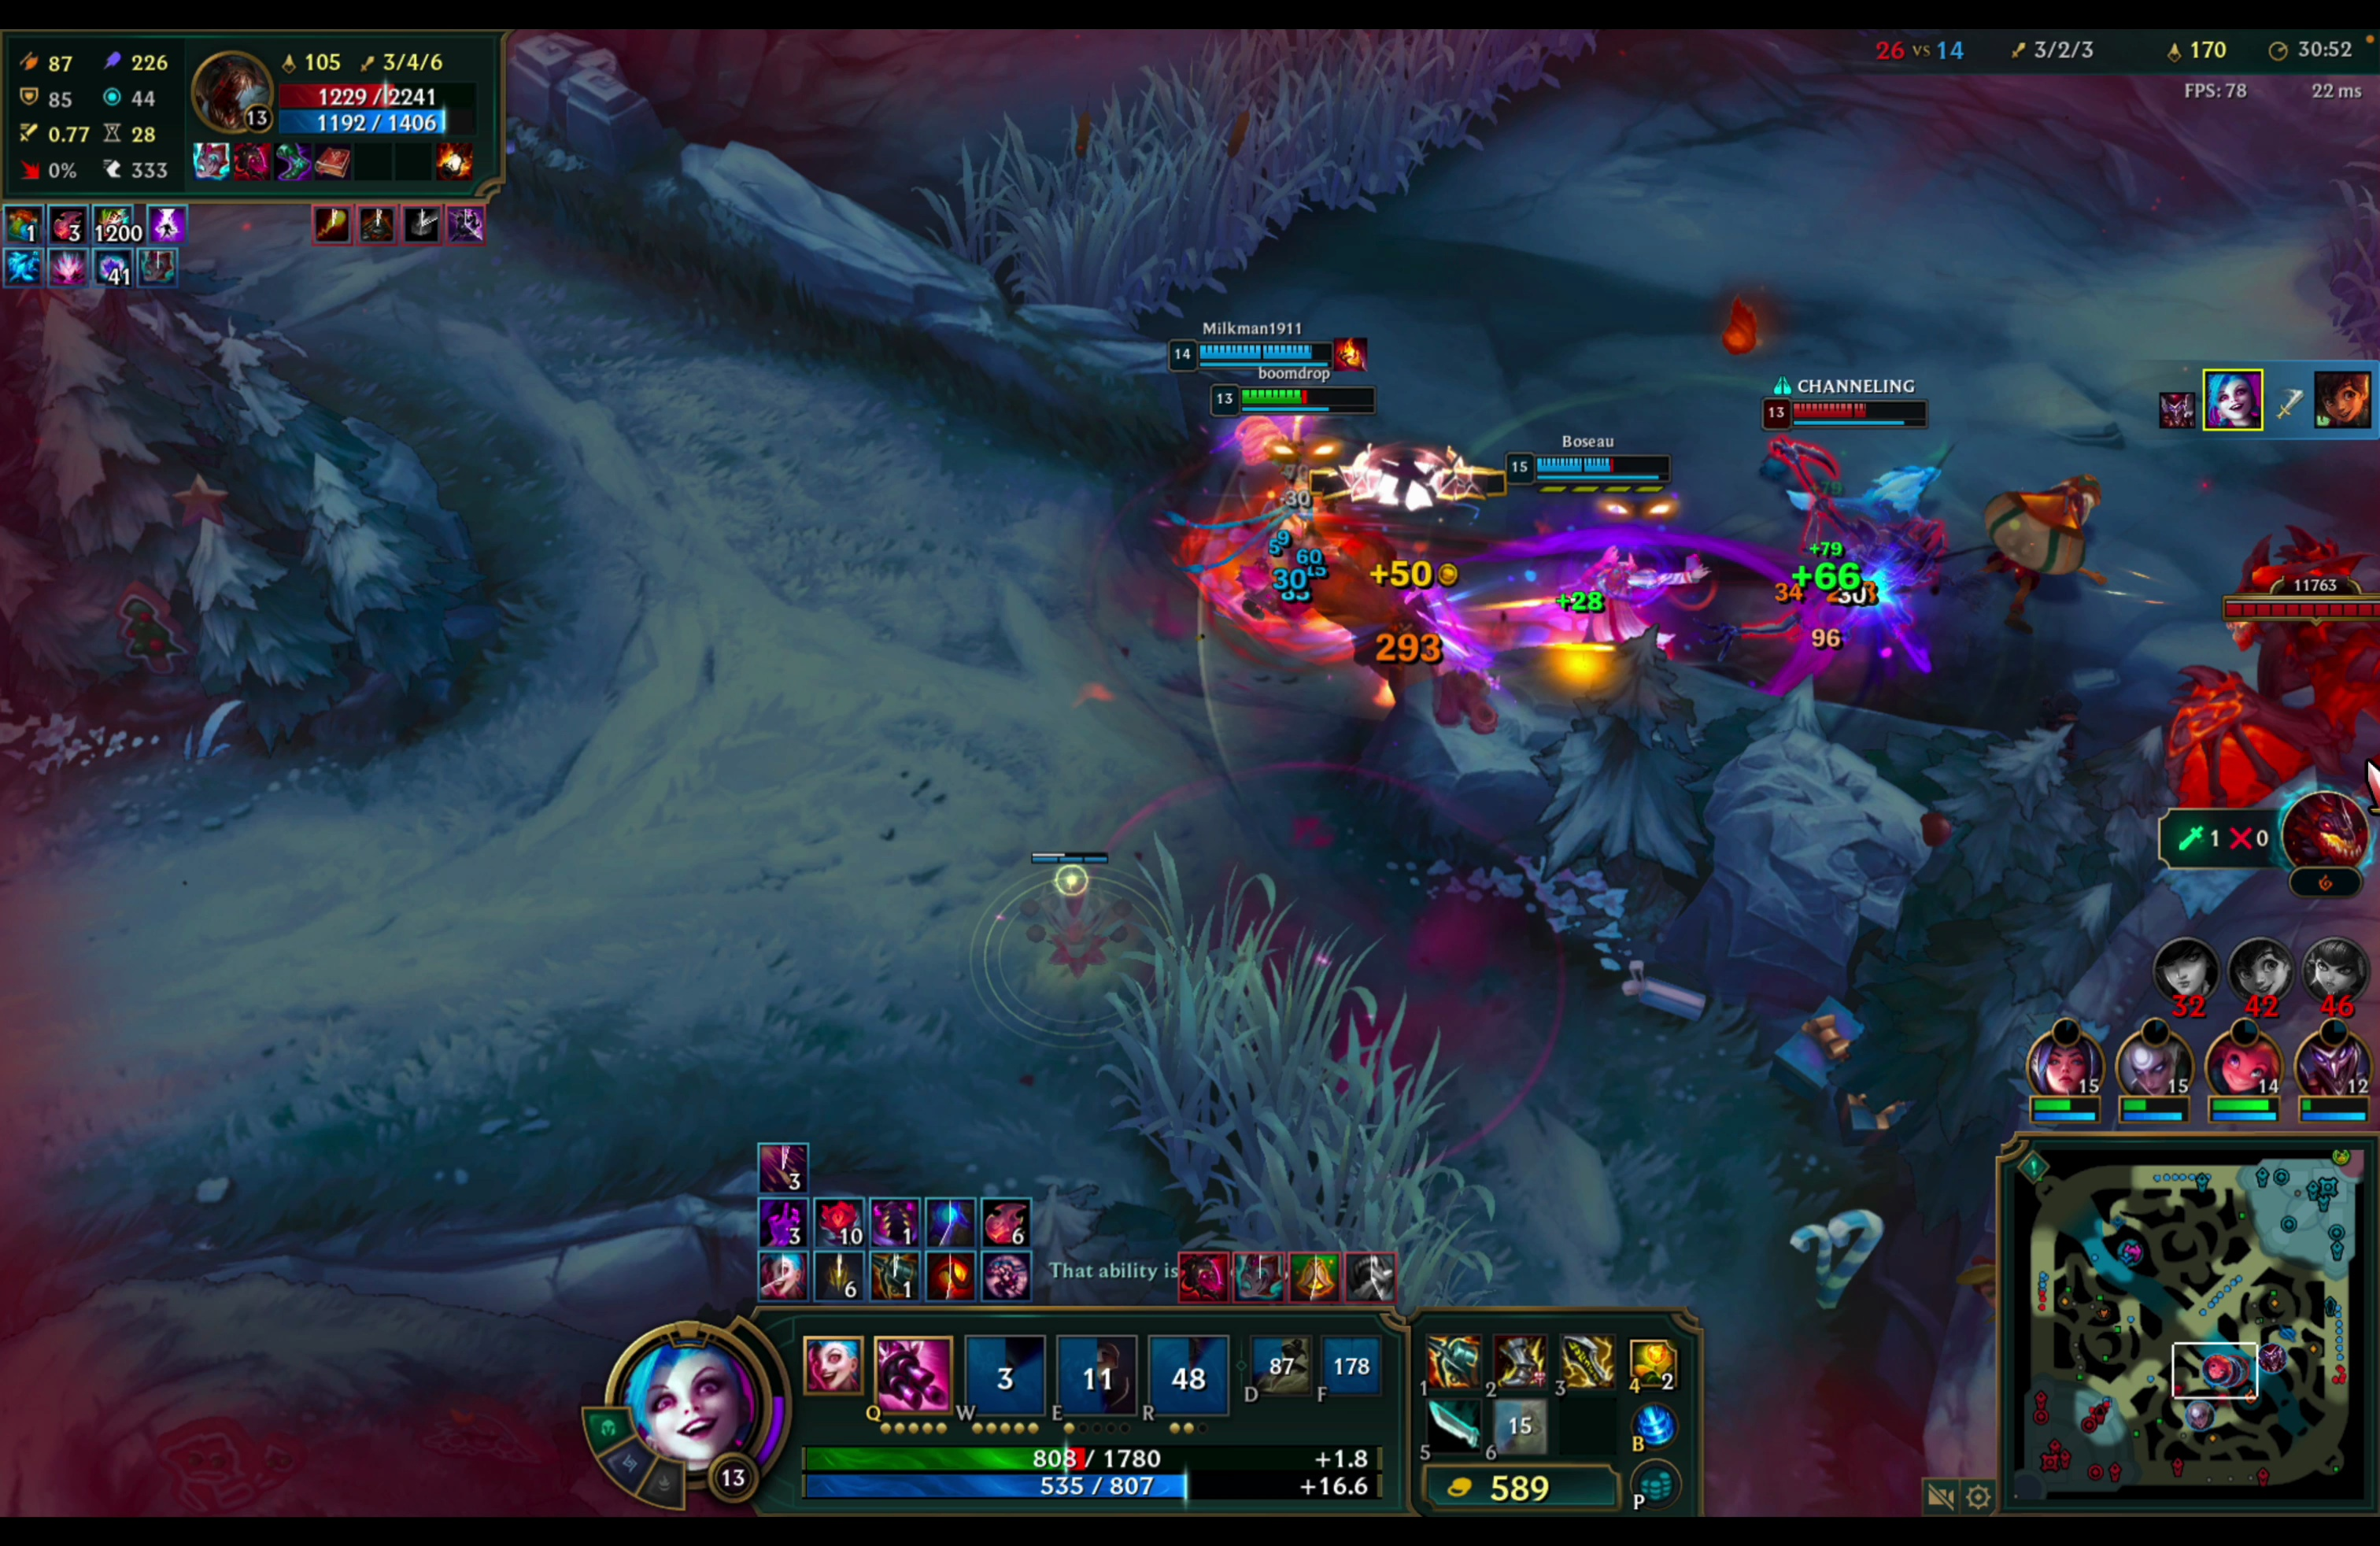JINX_W_IMPACT: (1199, 375, 1535, 696)
